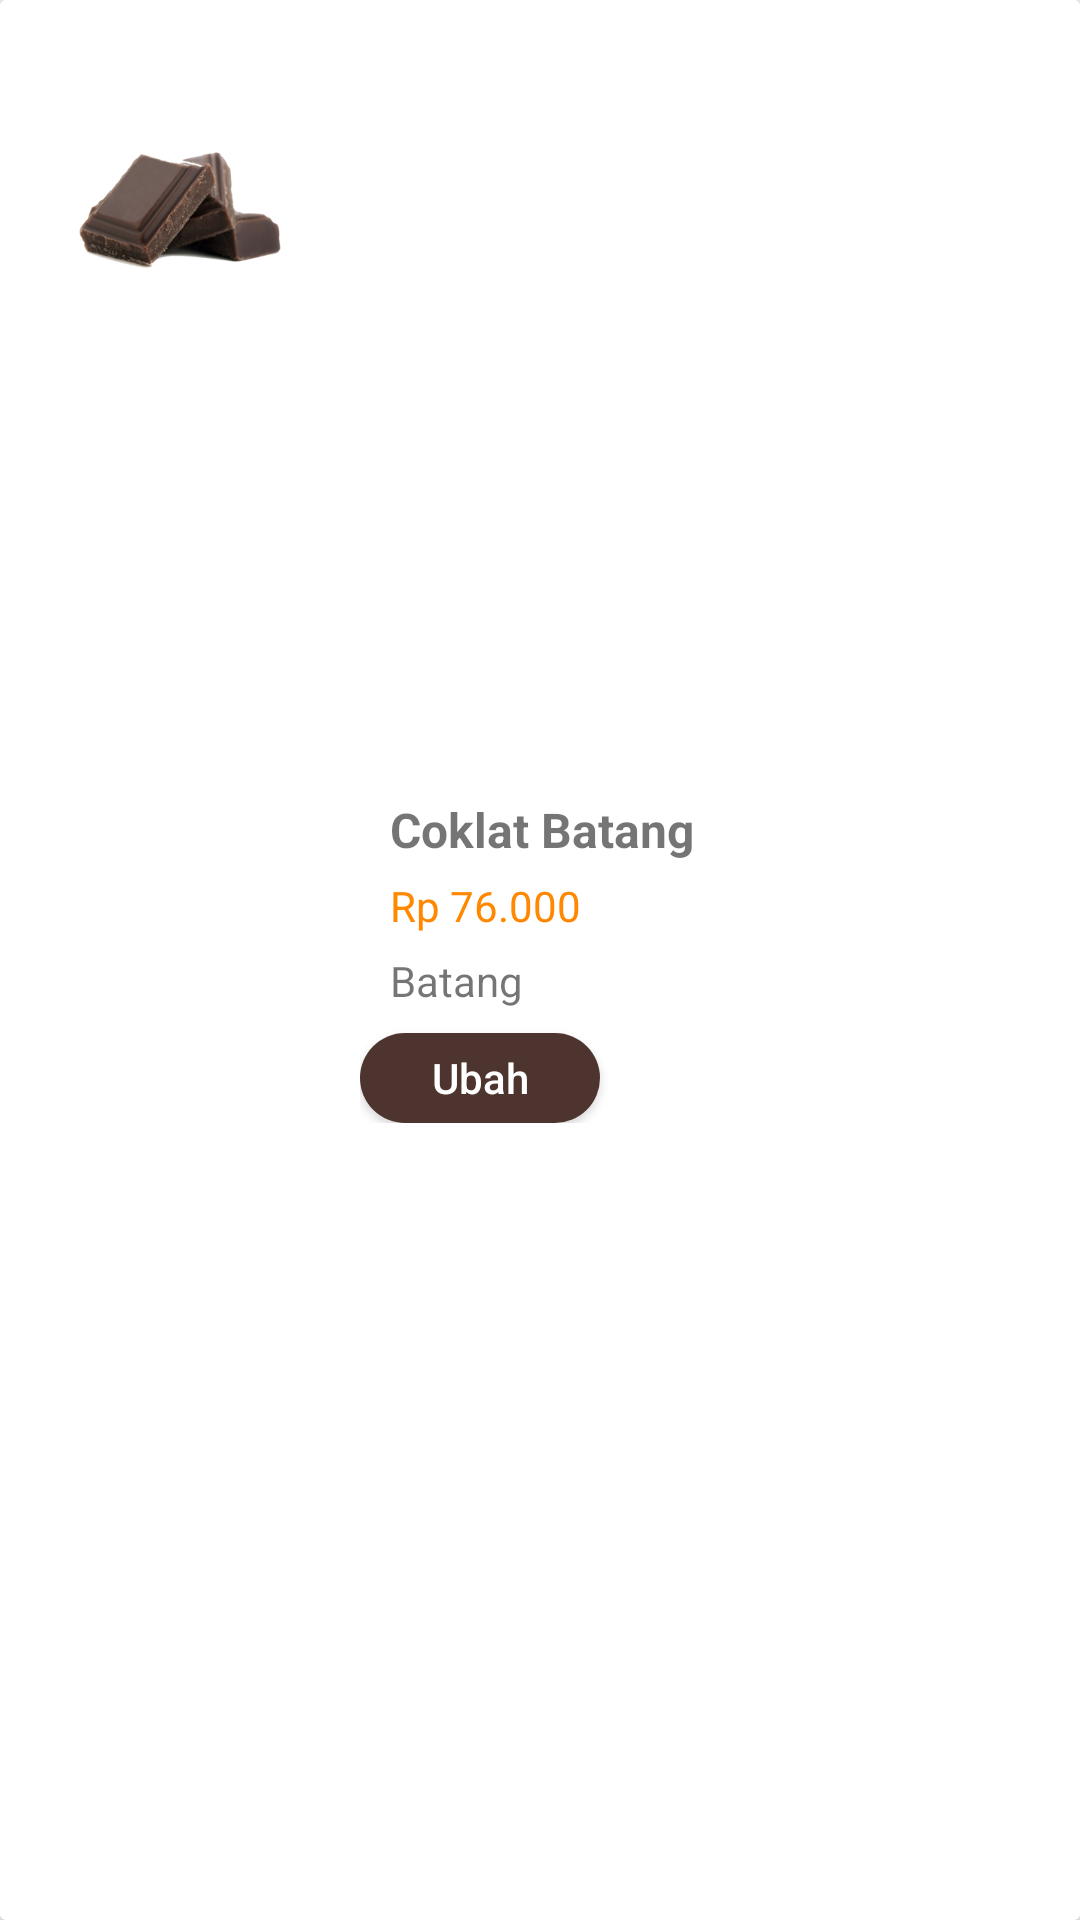

Locate icon controls on the screen. Image size 1080px×1920px, boxes as bbox(x1, y1, x2, y2).
coklatbatang: bbox(79, 152, 281, 268)
